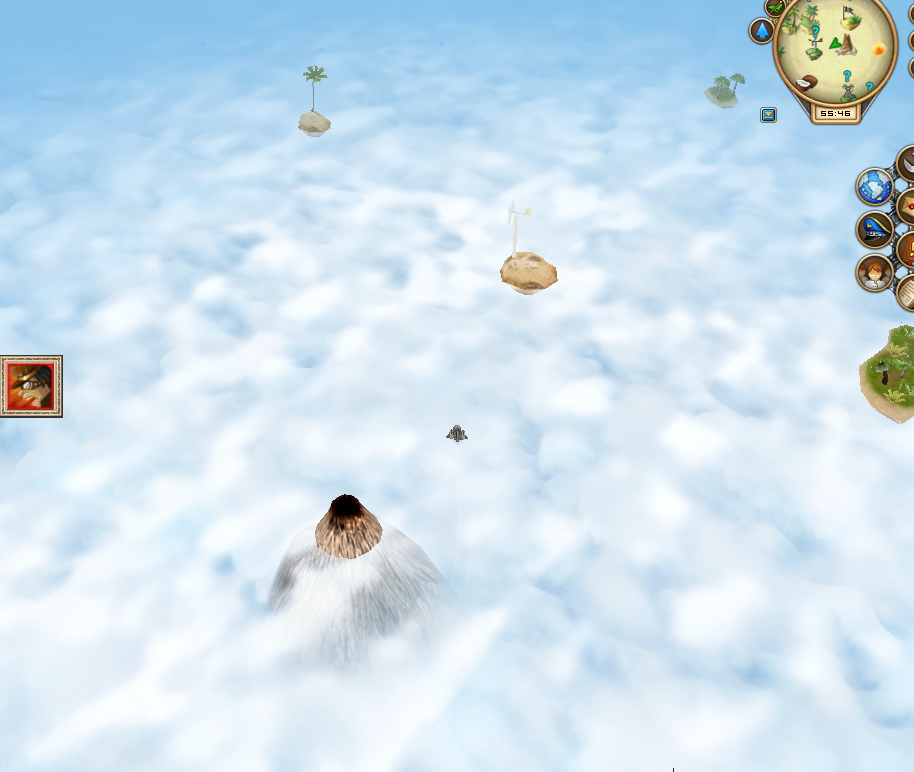palm: (294, 62, 334, 140)
